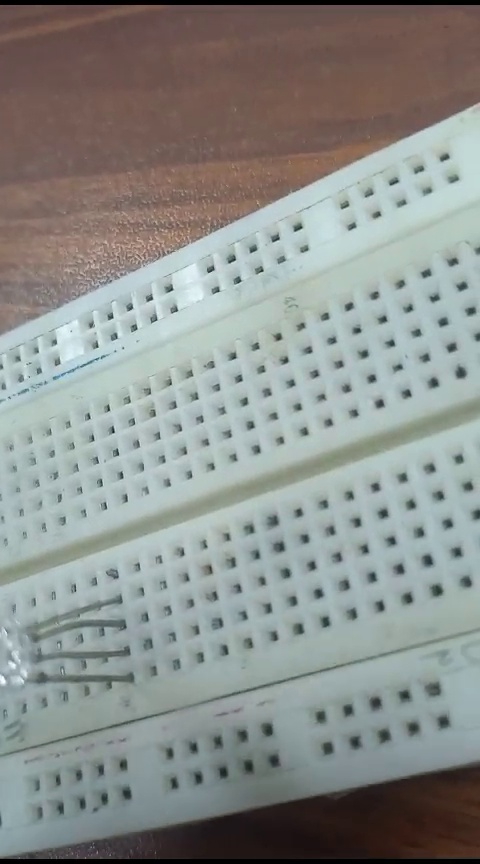LED: (2, 605, 124, 696)
